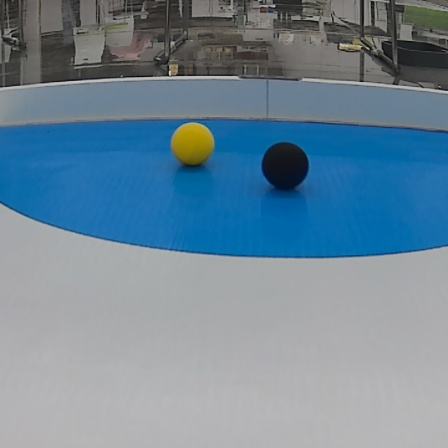black: (264, 142, 310, 189)
blue_base: (1, 116, 448, 260)
yellow: (172, 124, 214, 164)
